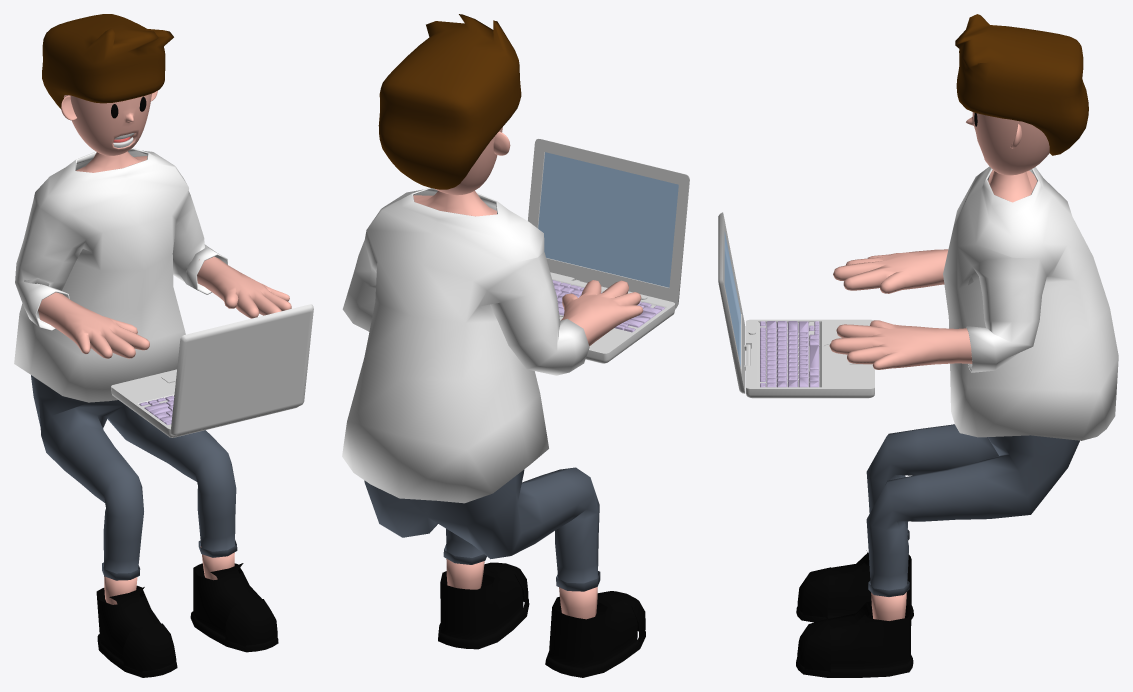
File: boy_sitting.fbx
The picture shows the model from 3 angles, left to right: view 1: azimuth 30°, elevation 25°; view 2: azimuth 150°, elevation 25°; view 3: azimuth 270°, elevation 25°; orthographic projection. The views are drawn at different scales.
Visible parts, largest first — view 1: Sweter, iBook_lid, Cube.001, Cube, iBook_bottom, iBook_keyboard; view 2: Sweter, iBook_lid, Cube.001, iBook_bottom, Cube, iBook_keyboard; view 3: Sweter, Cube.001, iBook_bottom, iBook_keyboard, Cube, iBook_lid.
Part boxes in pixels (left/top/right/bottom): Sweter: left=14, top=148, right=291, bottom=677; iBook_lid: left=170, top=304, right=313, bottom=435; Cube.001: left=42, top=14, right=173, bottom=109; Cube: left=63, top=93, right=151, bottom=155; iBook_bottom: left=111, top=369, right=298, bottom=437; iBook_keyboard: left=139, top=395, right=174, bottom=425; Sweter: left=342, top=187, right=645, bottom=677; iBook_lid: left=528, top=139, right=689, bottom=308; Cube.001: left=378, top=14, right=521, bottom=189; iBook_bottom: left=550, top=272, right=675, bottom=363; Cube: left=434, top=127, right=502, bottom=195; iBook_keyboard: left=552, top=280, right=664, bottom=332; Sweter: left=796, top=166, right=1118, bottom=677; Cube.001: left=955, top=14, right=1088, bottom=155; iBook_bottom: left=746, top=319, right=874, bottom=398; iBook_keyboard: left=760, top=321, right=819, bottom=387; Cube: left=966, top=112, right=1049, bottom=175; iBook_lid: left=718, top=212, right=750, bottom=393.
Size of the model in its own units: 60.69 by 159 by 93.5.
